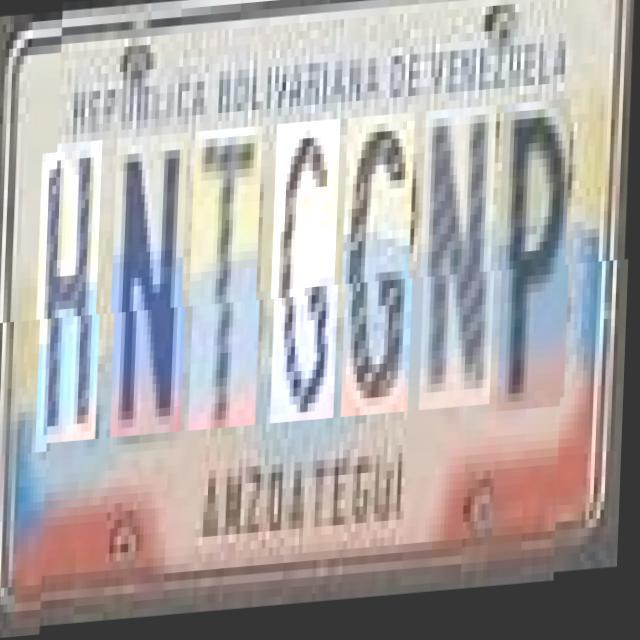G: (344, 120, 420, 423), (274, 125, 346, 428)
H: (40, 142, 108, 445)
N: (422, 114, 502, 418), (114, 136, 193, 440)
P: (500, 110, 576, 422)
T: (192, 130, 268, 434)
